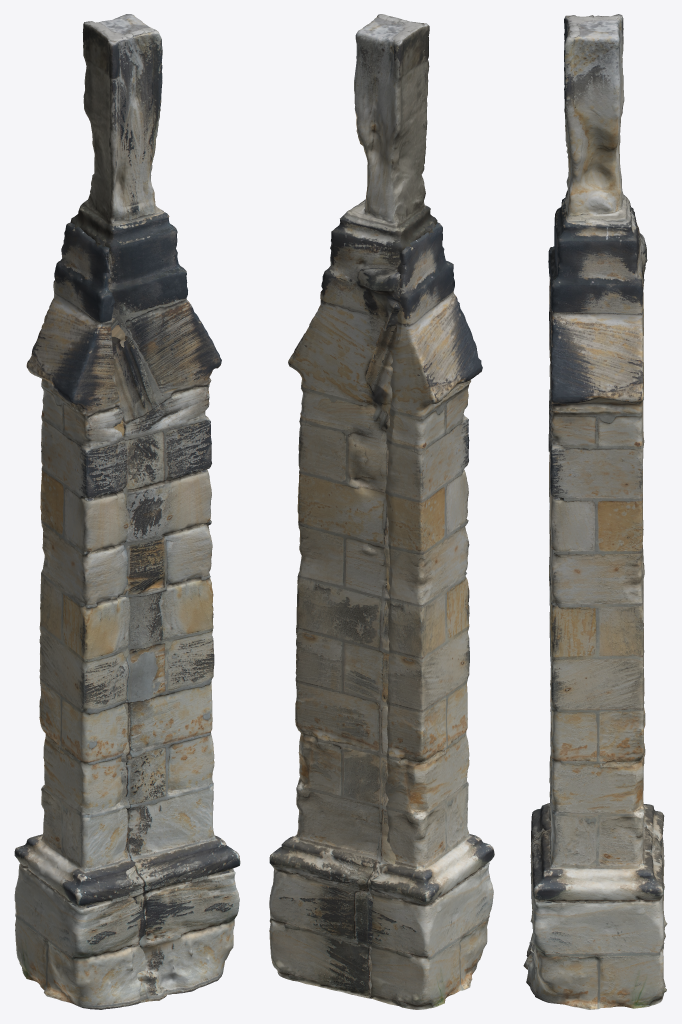
The model's file is sm_Chapel_01_08.fbx.
3 views of the same model, side by side, from view 1: azimuth 30°, elevation 25°; view 2: azimuth 150°, elevation 25°; view 3: azimuth 270°, elevation 25° (orthographic).
Visible parts, largest first — view 1: sm_Chapel_01_08_LOD0; view 2: sm_Chapel_01_08_LOD0; view 3: sm_Chapel_01_08_LOD0.
Part boxes in pixels (x1=…): sm_Chapel_01_08_LOD0: x1=14, y1=14, x2=240, y2=1009; sm_Chapel_01_08_LOD0: x1=269, y1=14, x2=494, y2=1009; sm_Chapel_01_08_LOD0: x1=523, y1=14, x2=667, y2=1009.
Bounding box in the file's own units: 89.86 × 66.39 × 478.
